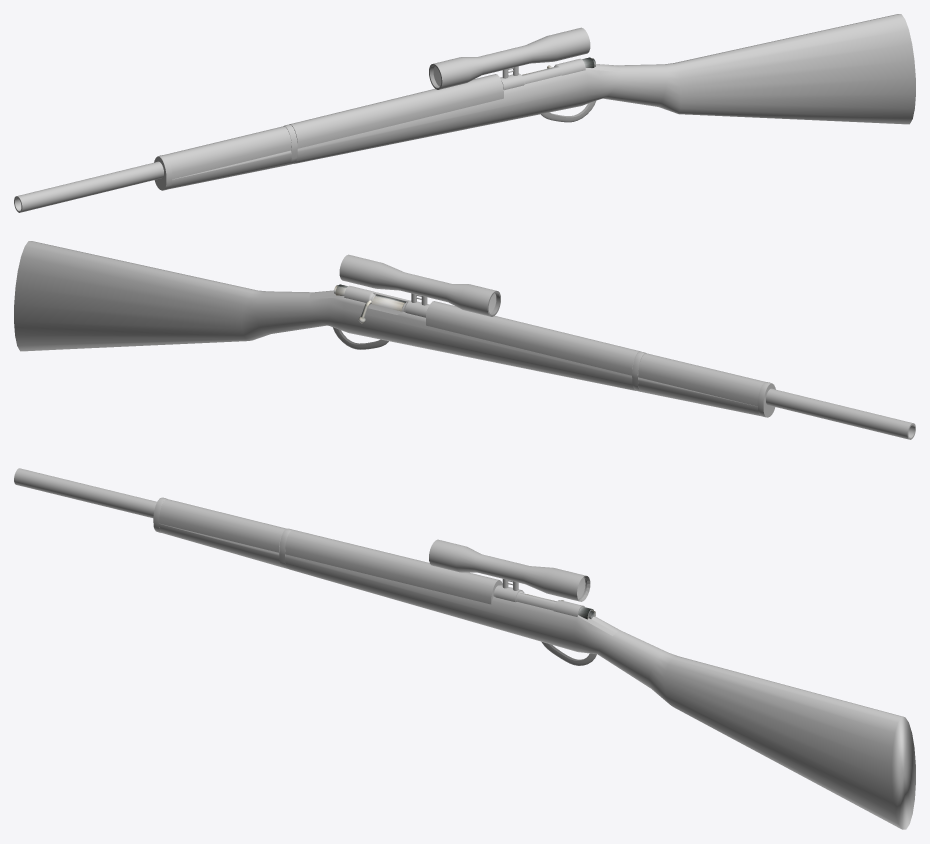
Rendered from SniperRifle.fbx.
3 views of the same model, one above another, from view 1: azimuth 30°, elevation 25°; view 2: azimuth 150°, elevation 25°; view 3: azimuth 330°, elevation 25° (orthographic).
Parts seen in each view (by area): view 1: pCylinder2, pCylinder4, pCylinder8, pCylinder1; view 2: pCylinder2, pCylinder4, pCylinder8, pCylinder1; view 3: pCylinder2, pCylinder4, pCylinder8, pCylinder1.
Boxes of the visible parts, x1,y1,x2,y2 form: pCylinder2: [170, 14, 915, 188]; pCylinder4: [164, 74, 503, 179]; pCylinder8: [429, 27, 590, 89]; pCylinder1: [14, 58, 585, 212]; pCylinder2: [14, 241, 759, 415]; pCylinder4: [426, 301, 765, 406]; pCylinder8: [339, 254, 500, 316]; pCylinder1: [344, 285, 915, 439]; pCylinder2: [159, 524, 915, 829]; pCylinder4: [159, 499, 502, 604]; pCylinder8: [429, 539, 590, 601]; pCylinder1: [14, 468, 584, 616].
Size of the model in its own units: 18.54 by 3.48 by 0.8708.
